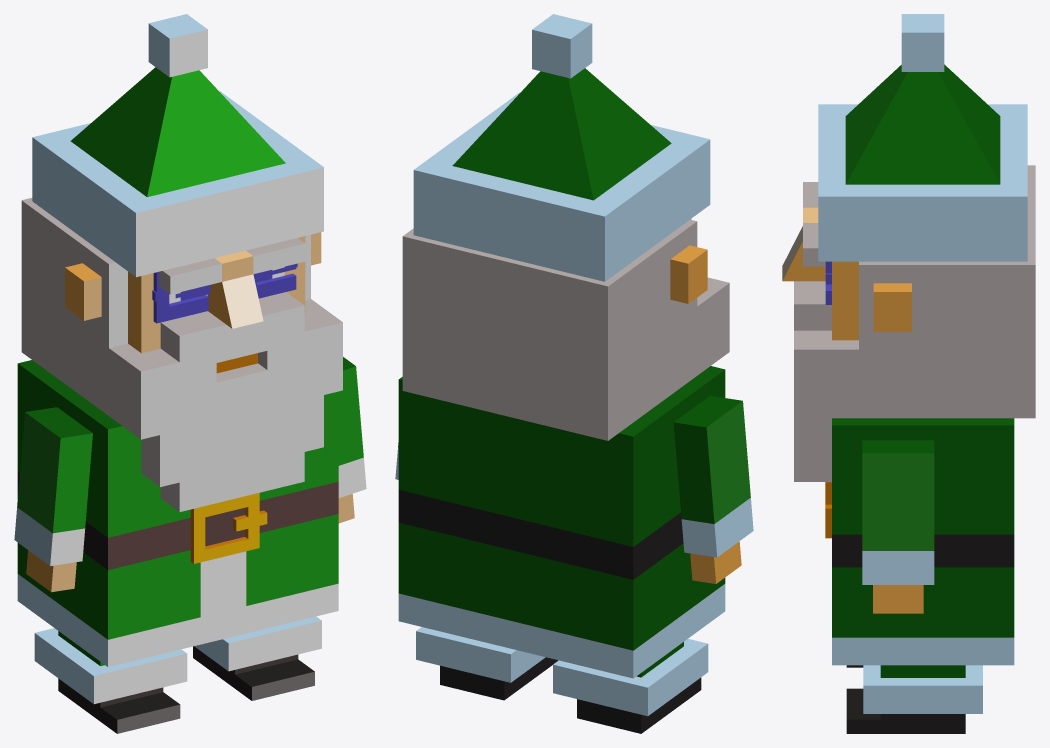
3 renders of one model, left to right at view 1: azimuth 30°, elevation 25°; view 2: azimuth 150°, elevation 25°; view 3: azimuth 270°, elevation 25°, orthographic.
Visible parts, largest first — view 1: Ch_173_Head, Ch_173, Ch_173_Hand_L, Ch_173_Leg_L, Ch_173_Leg_R, Ch_173_Hand_R, Ch_173_Eye_03_L, Ch_173_Eye_03_R; view 2: Ch_173_Head, Ch_173, Ch_173_Hand_L, Ch_173_Leg_L, Ch_173_Leg_R; view 3: Ch_173_Head, Ch_173, Ch_173_Hand_R, Ch_173_Leg_R.
Boxes of the visible parts, box(x1,y1,x2,y2) form: Ch_173_Head: box(21, 14, 342, 512); Ch_173: box(17, 360, 338, 666); Ch_173_Hand_L: box(14, 407, 92, 592); Ch_173_Leg_L: box(34, 628, 187, 733); Ch_173_Leg_R: box(193, 616, 321, 700); Ch_173_Hand_R: box(338, 357, 366, 523); Ch_173_Eye_03_L: box(153, 272, 208, 323); Ch_173_Eye_03_R: box(253, 264, 296, 298); Ch_173_Head: box(402, 14, 729, 440); Ch_173: box(398, 366, 725, 678); Ch_173_Hand_L: box(673, 395, 753, 583); Ch_173_Leg_L: box(553, 639, 708, 733); Ch_173_Leg_R: box(416, 627, 558, 700); Ch_173_Head: box(782, 14, 1035, 481); Ch_173: box(825, 418, 1014, 665); Ch_173_Hand_R: box(862, 440, 934, 613); Ch_173_Leg_R: box(846, 665, 982, 733).
Bounding box in the file's own units: 6.82 × 13.51 × 4.68.
